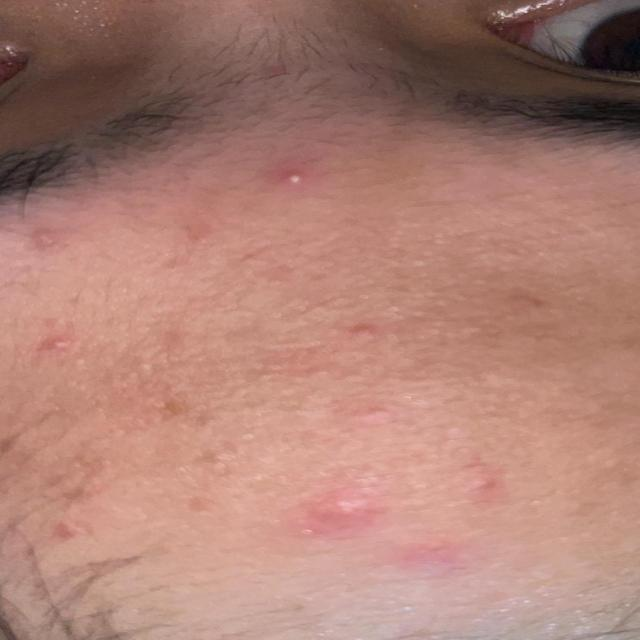papule: (238, 437, 528, 612), (317, 291, 434, 439)
